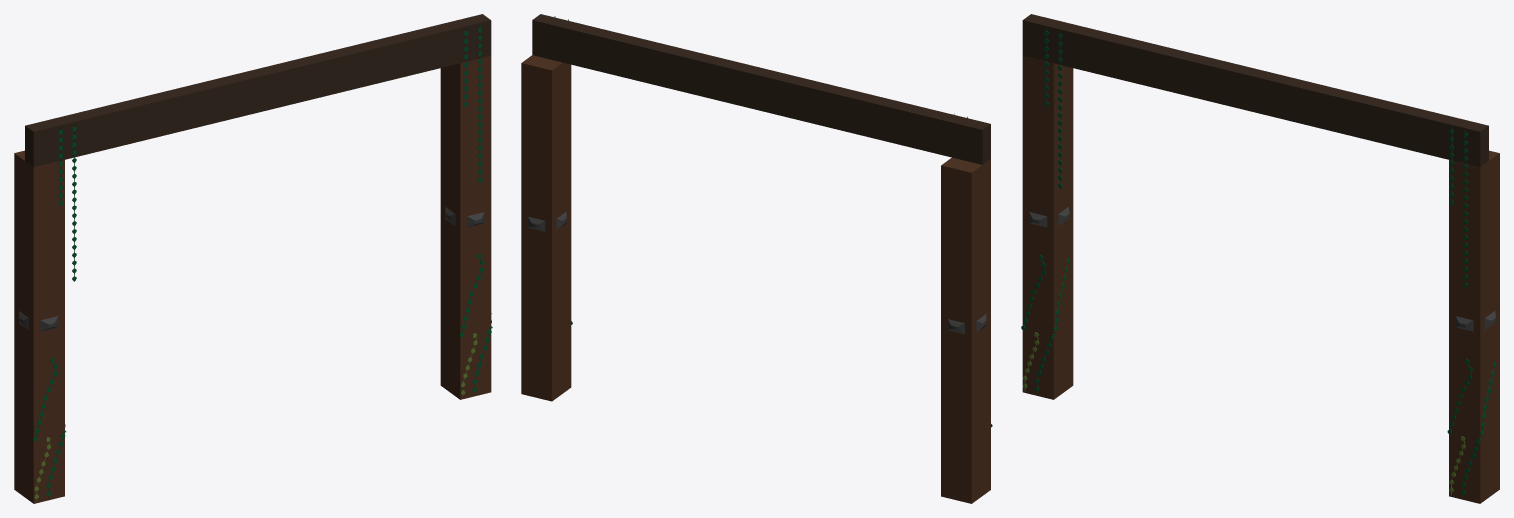
3 views of the same model, side by side, from view 1: azimuth 30°, elevation 25°; view 2: azimuth 150°, elevation 25°; view 3: azimuth 330°, elevation 25° (orthographic).
Visible parts, largest first — view 1: Colonna+inserti.003; view 2: Colonna+inserti.003; view 3: Colonna+inserti.003.
Part boxes in pixels (x1,y1,x2,y2): Colonna+inserti.003: (14,14,492,503); Colonna+inserti.003: (521,14,992,503); Colonna+inserti.003: (1021,14,1499,503).
Size of the model in its own units: 1338 by 1024 by 119.
